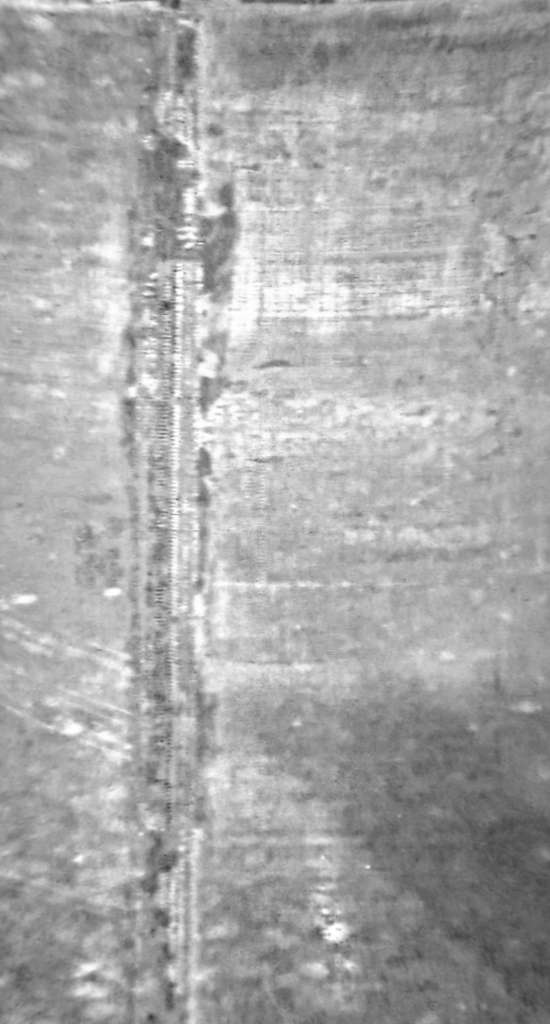splice: (122, 6, 227, 1024)
